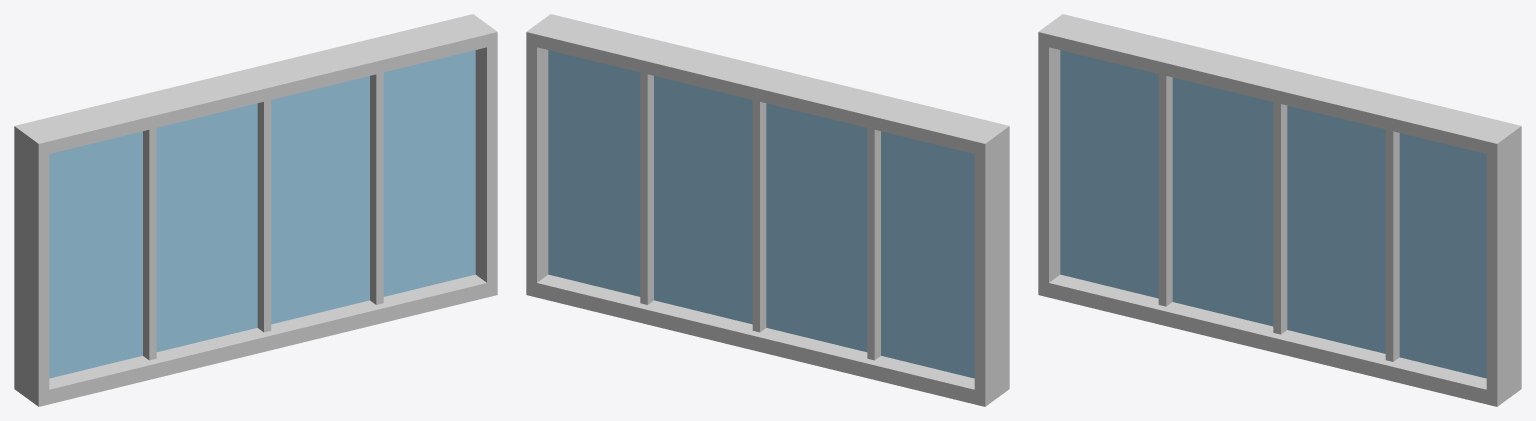
The model's file is window_017.glb.
3 views of the same model, side by side, from view 1: azimuth 30°, elevation 25°; view 2: azimuth 150°, elevation 25°; view 3: azimuth 330°, elevation 25° (orthographic).
Parts seen in each view (by area): view 1: window_017; view 2: window_017; view 3: window_017.
Boxes of the visible parts, box(x1,y1,x2,y2) form: window_017: box(14, 14, 497, 406); window_017: box(526, 14, 1009, 406); window_017: box(1038, 14, 1521, 406).
Size of the model in its own units: 3.05 by 1.67 by 0.2828.
Materials: 1 (1 with a texture image).
